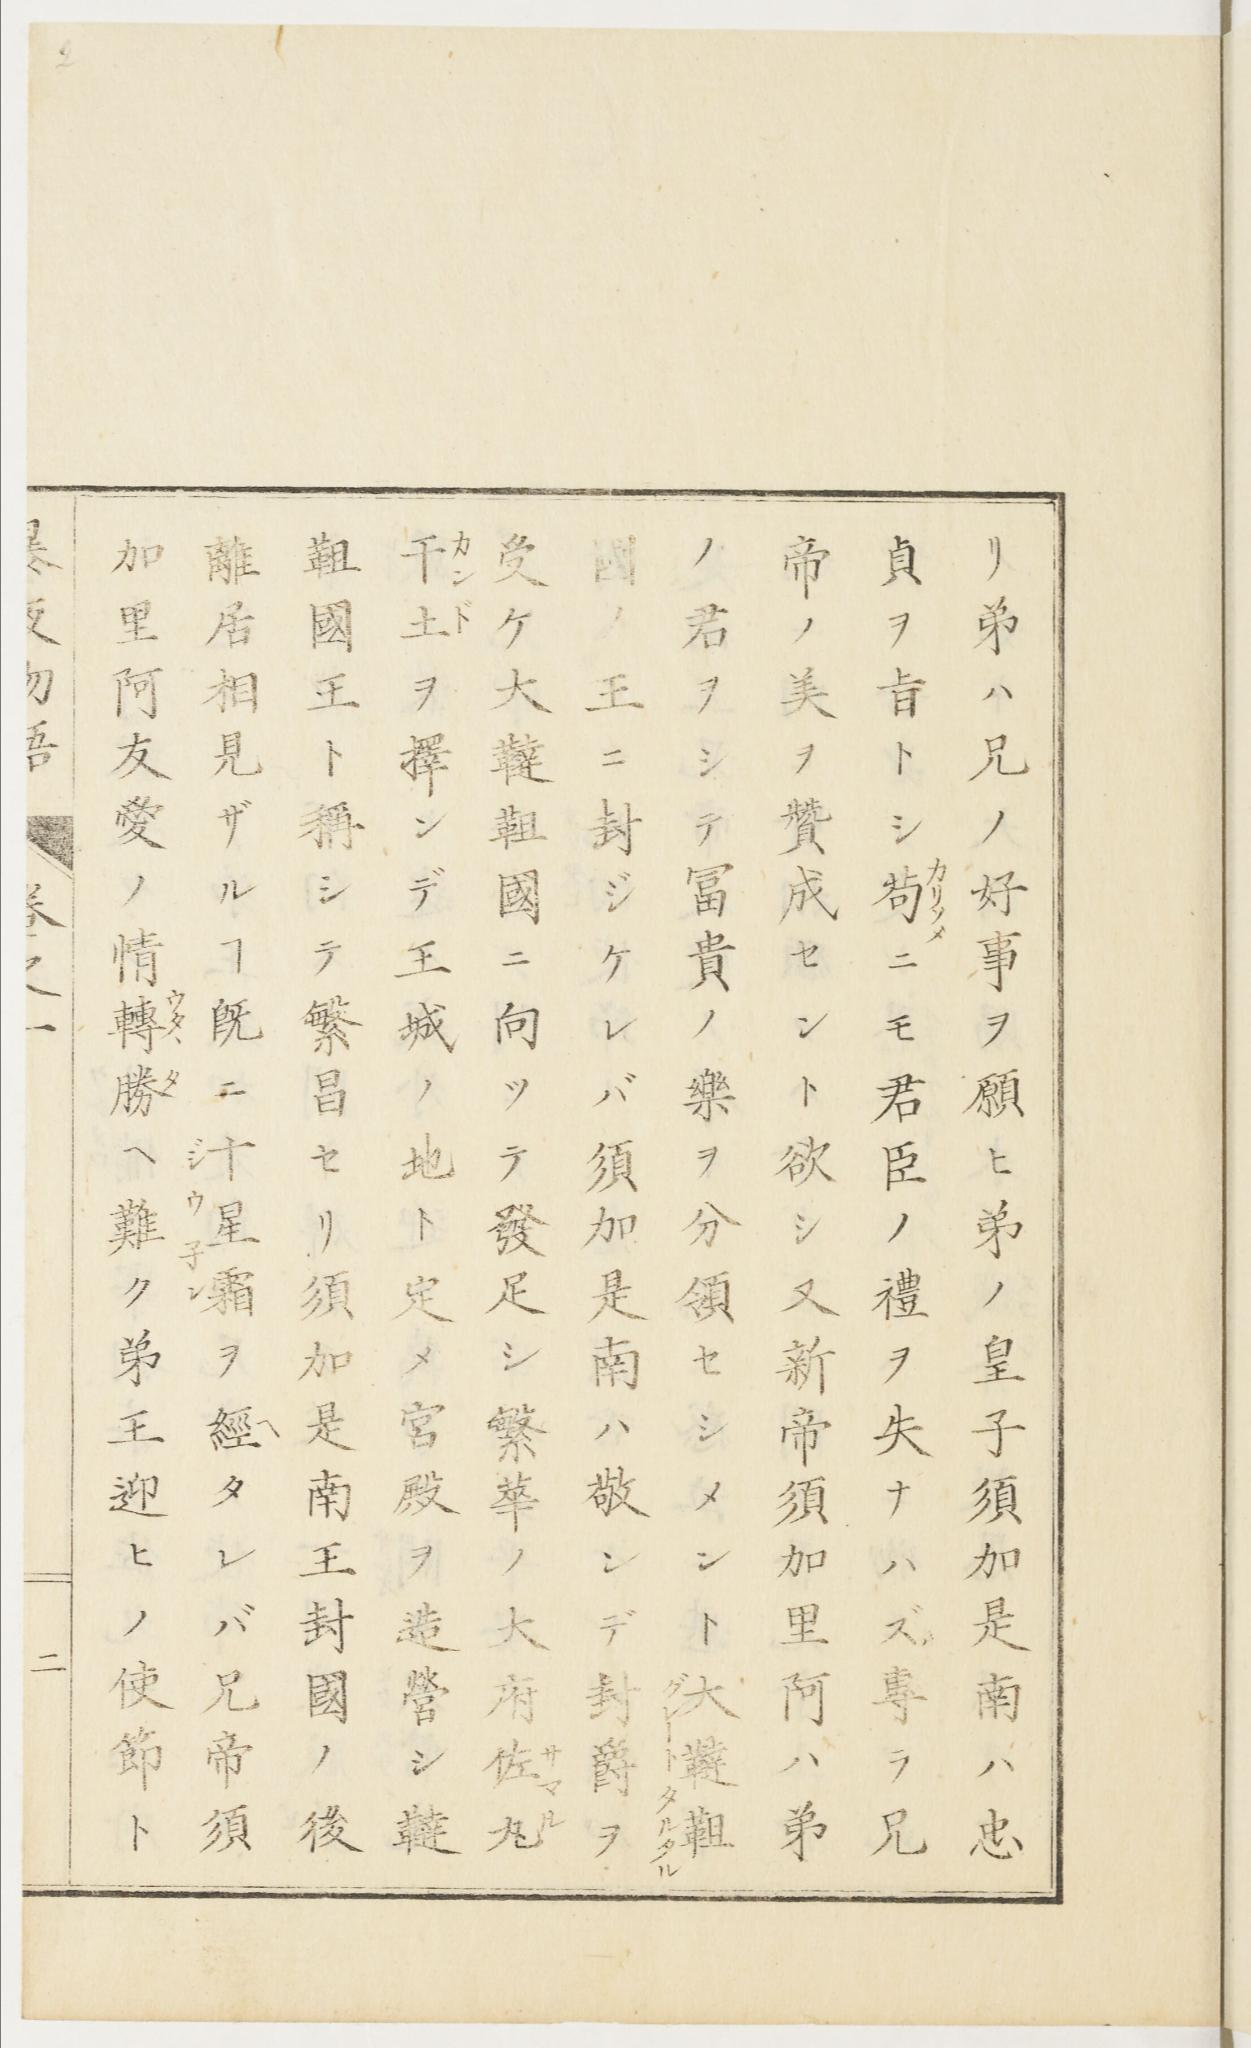MainZone-Character: (871, 853, 957, 945), (102, 985, 190, 1056), (398, 525, 480, 588), (101, 1058, 186, 1116), (481, 1741, 563, 1798), (397, 591, 480, 645), (486, 1805, 566, 1861)
MainZone-Ruby: (925, 854, 954, 948), (451, 525, 477, 592), (162, 986, 189, 1050), (448, 591, 478, 644), (537, 1739, 562, 1799), (161, 1065, 180, 1100), (540, 1810, 568, 1830)
